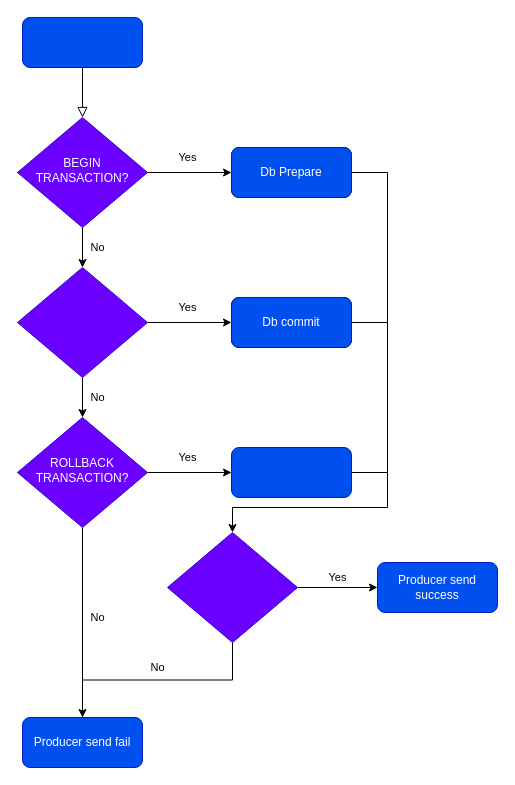
The diagram is 515 pixels wide and 785 high, and some of its shapes have lost their labels. The shapes that lost their labels are listed below. From the top down, each one's centre as x and y in pixels, then its label:
(82,42): Incoming message consumer
(82,322): COMMIT TRANSACTION?
(291,472): Db rollback
(232,587): SUCCESS?
